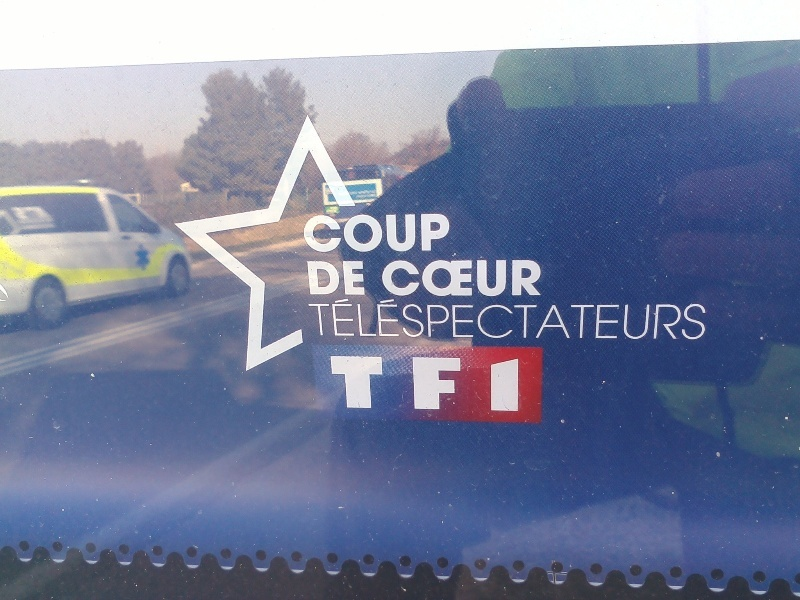text: (337, 356, 352, 413), (353, 356, 368, 413), (369, 356, 384, 413), (385, 356, 400, 413), (401, 356, 416, 413), (417, 356, 432, 413), (433, 356, 448, 413), (449, 356, 464, 413), (465, 356, 480, 413), (481, 356, 496, 413), (497, 356, 512, 413), (321, 297, 336, 342), (337, 297, 352, 342), (353, 297, 368, 342), (369, 297, 384, 342), (385, 297, 400, 342), (401, 297, 416, 342), (417, 297, 432, 342), (433, 297, 448, 342), (449, 297, 464, 342), (465, 297, 480, 342), (481, 297, 496, 342), (497, 297, 512, 342), (513, 297, 528, 342), (529, 297, 544, 342), (545, 297, 560, 342), (561, 297, 576, 342), (577, 297, 592, 342), (593, 297, 608, 342), (609, 297, 624, 342), (625, 297, 640, 342), (641, 297, 656, 342), (657, 297, 672, 342), (673, 297, 688, 342), (689, 297, 704, 342), (305, 211, 320, 254), (321, 211, 336, 254), (337, 211, 352, 254), (353, 211, 368, 254), (369, 211, 384, 254), (385, 211, 400, 254), (401, 211, 416, 254), (417, 211, 432, 254), (433, 211, 448, 254), (306, 297, 320, 342), (305, 257, 320, 297), (321, 257, 336, 297), (337, 257, 352, 297), (385, 258, 400, 298), (401, 258, 416, 298), (417, 258, 432, 298), (433, 258, 448, 298), (449, 258, 464, 298), (465, 258, 480, 298), (481, 258, 496, 298), (497, 258, 512, 298), (513, 258, 528, 298), (353, 257, 367, 297), (529, 258, 542, 298), (329, 356, 336, 413), (513, 356, 520, 413), (705, 297, 709, 342), (449, 211, 452, 254), (381, 258, 384, 298), (353, 190, 368, 195), (355, 195, 368, 199), (369, 190, 377, 195), (369, 195, 377, 199), (349, 190, 352, 195)
